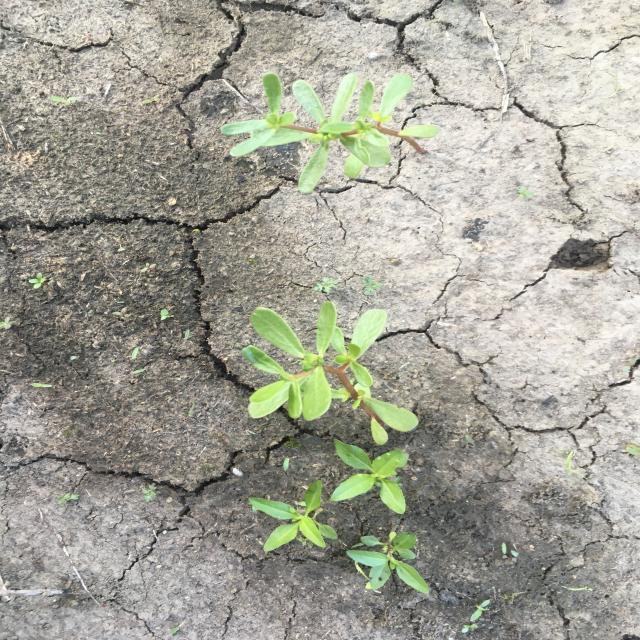Eclipta: (246, 478, 338, 552), (328, 438, 411, 515), (346, 530, 430, 595)
Purslane: (220, 70, 442, 195), (240, 300, 420, 446)
